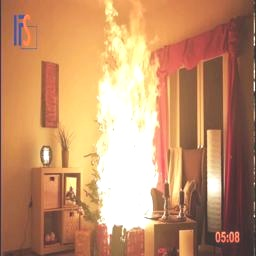fire: (80, 0, 168, 236)
